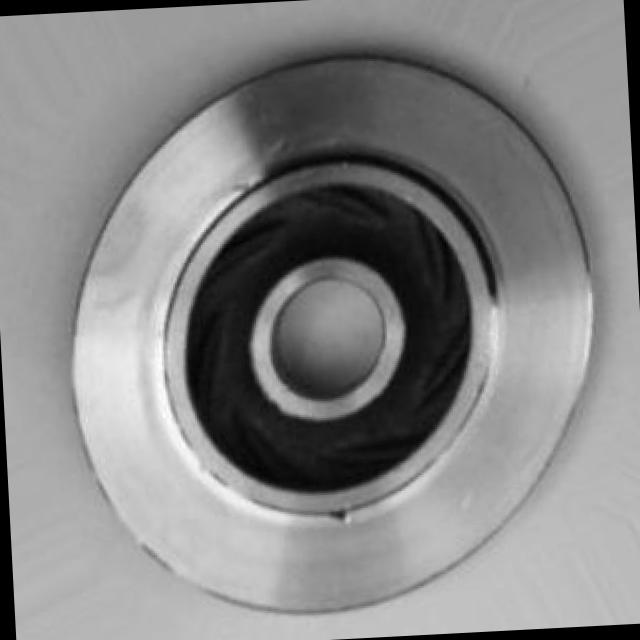Defect: (326, 506, 366, 535)
